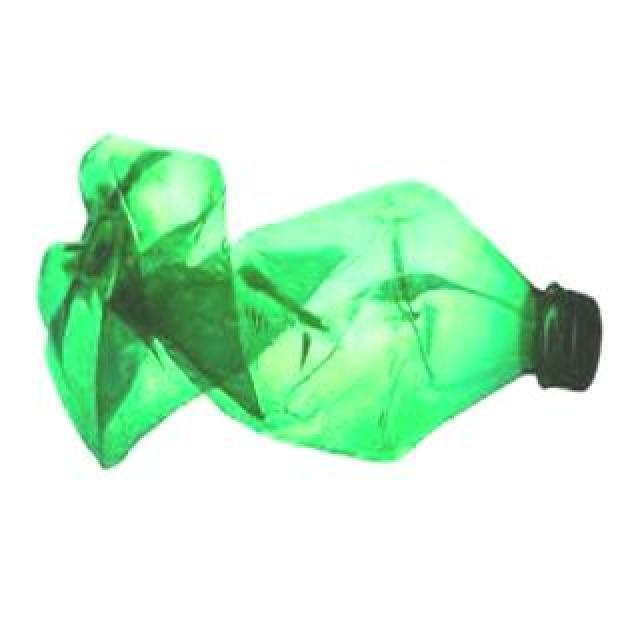Pet_Bottle: (37, 135, 613, 483)
